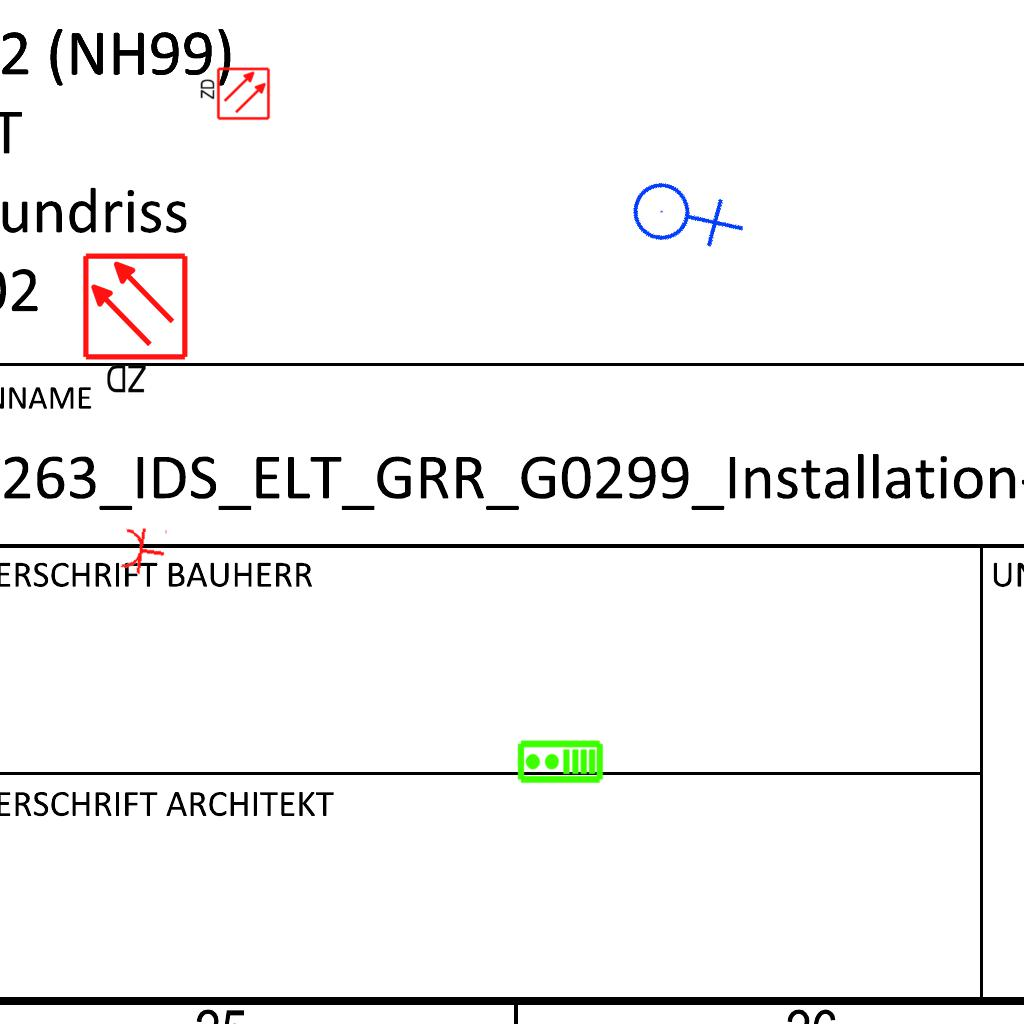Elektroanschluss_allgemein_230V_Geraeteanschlussdose_230V: (615, 144, 750, 280)
Gegensprechanlage_mit_Video: (516, 739, 604, 786)
Schukosteckdose_einfach: (118, 522, 169, 578)
ZD_Melder_in_Zwischendecke_mit_Revisionsoeffnung_mind_40_x_40_cm: (80, 251, 194, 400), (197, 66, 271, 123)
